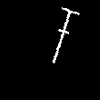double_crochet: (53, 8, 78, 62)
